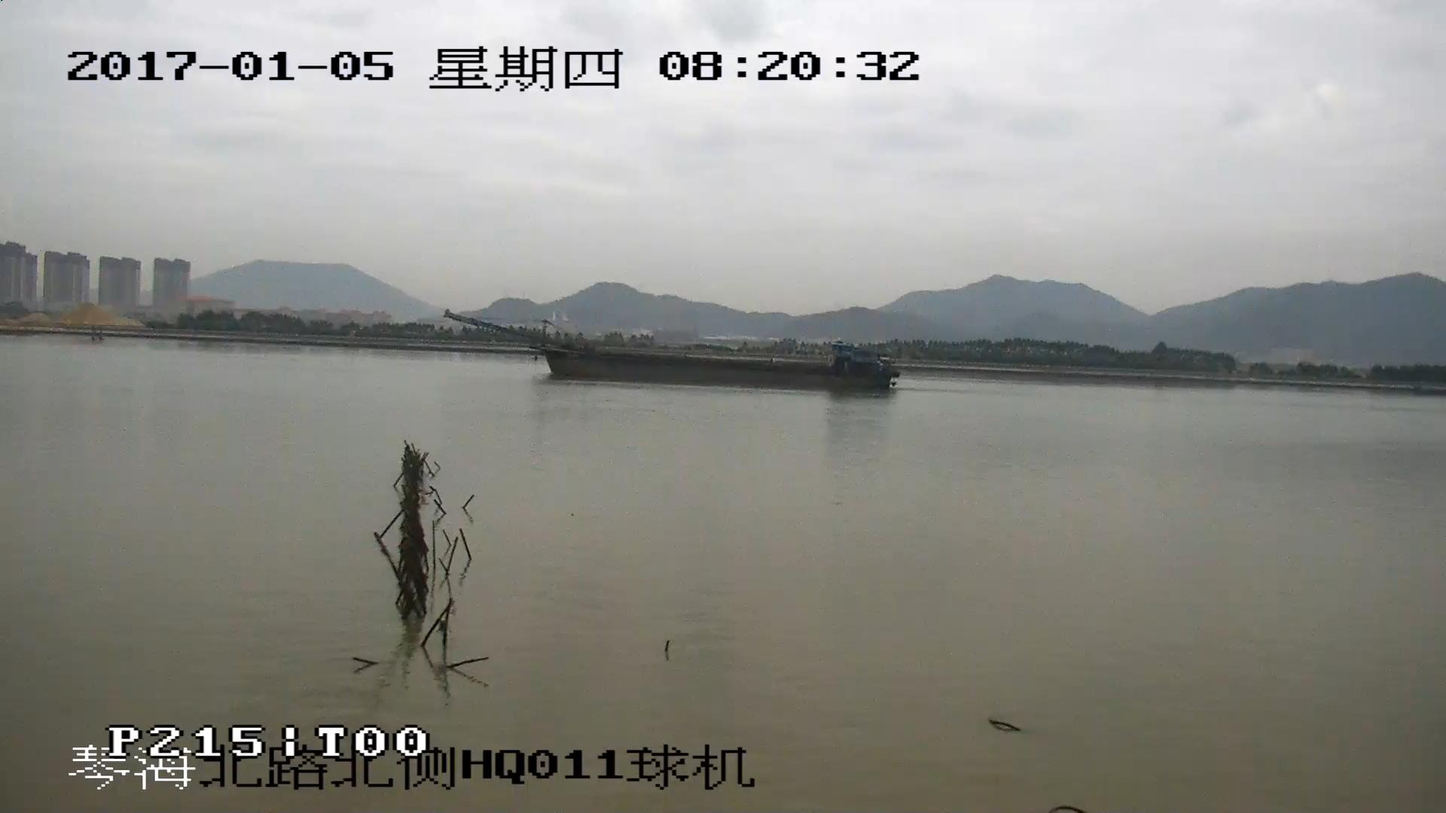bulk cargo carrier: (446, 315, 899, 391)
